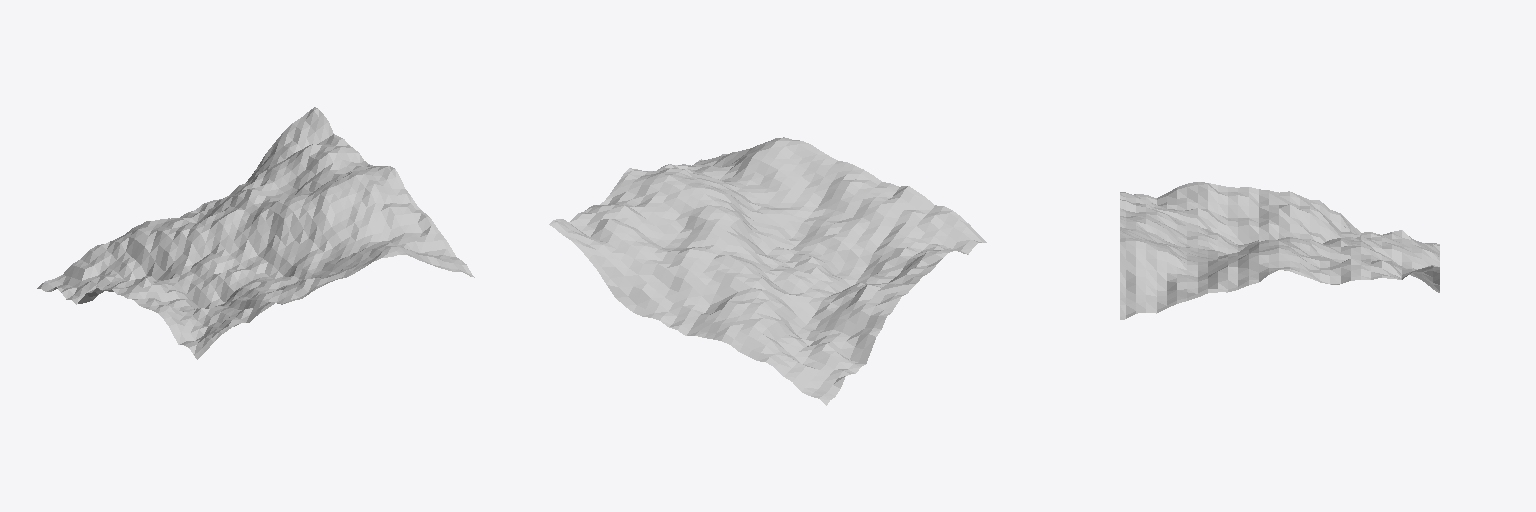
Rendered from heightmap.046.obj.
3 views of the same model, side by side, from view 1: azimuth 30°, elevation 25°; view 2: azimuth 150°, elevation 25°; view 3: azimuth 270°, elevation 25° (orthographic).
Visible parts, largest first — view 1: heightmap.046_Plane.046; view 2: heightmap.046_Plane.046; view 3: heightmap.046_Plane.046.
Boxes of the visible parts, x1=… form: heightmap.046_Plane.046: x1=37, y1=107, x2=474, y2=359; heightmap.046_Plane.046: x1=549, y1=137, x2=986, y2=405; heightmap.046_Plane.046: x1=1120, y1=182, x2=1439, y2=319.
Bounding box in the file's own units: 32 × 12.67 × 32.